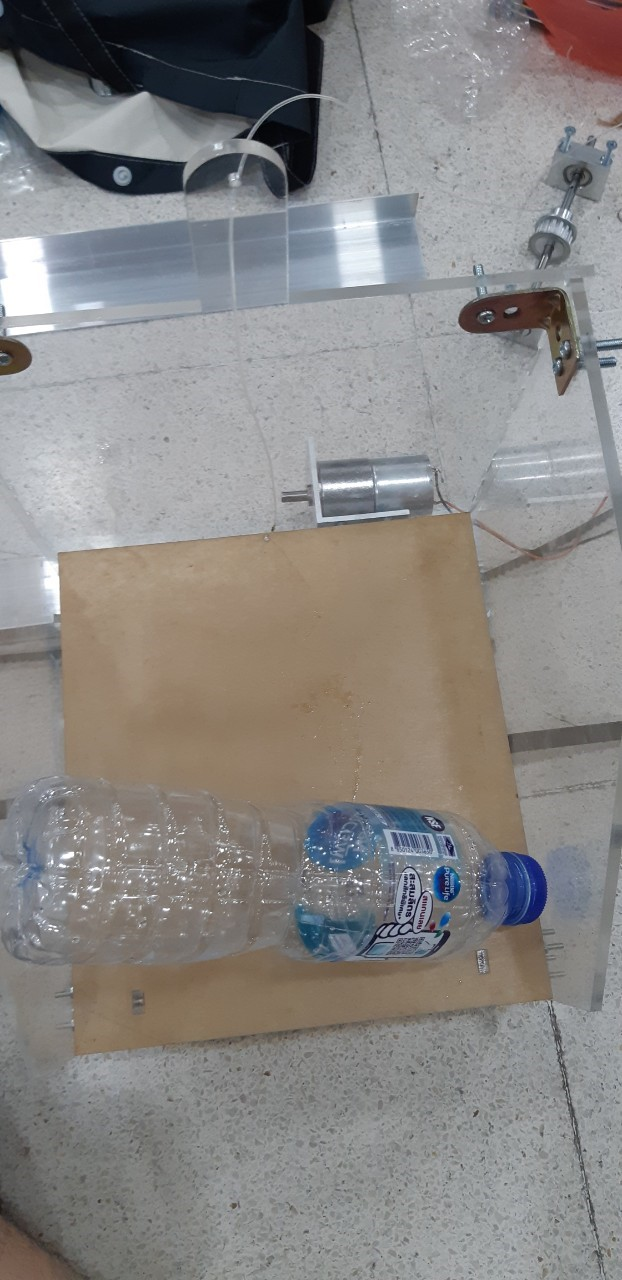PlasticBottle: (1, 778, 547, 961)
